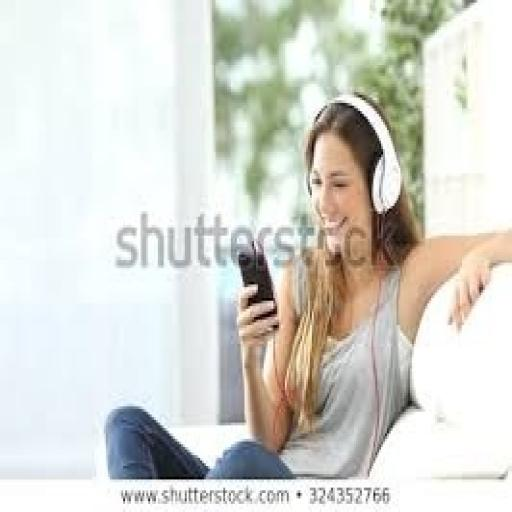listening_to_music: (100, 90, 510, 482)
